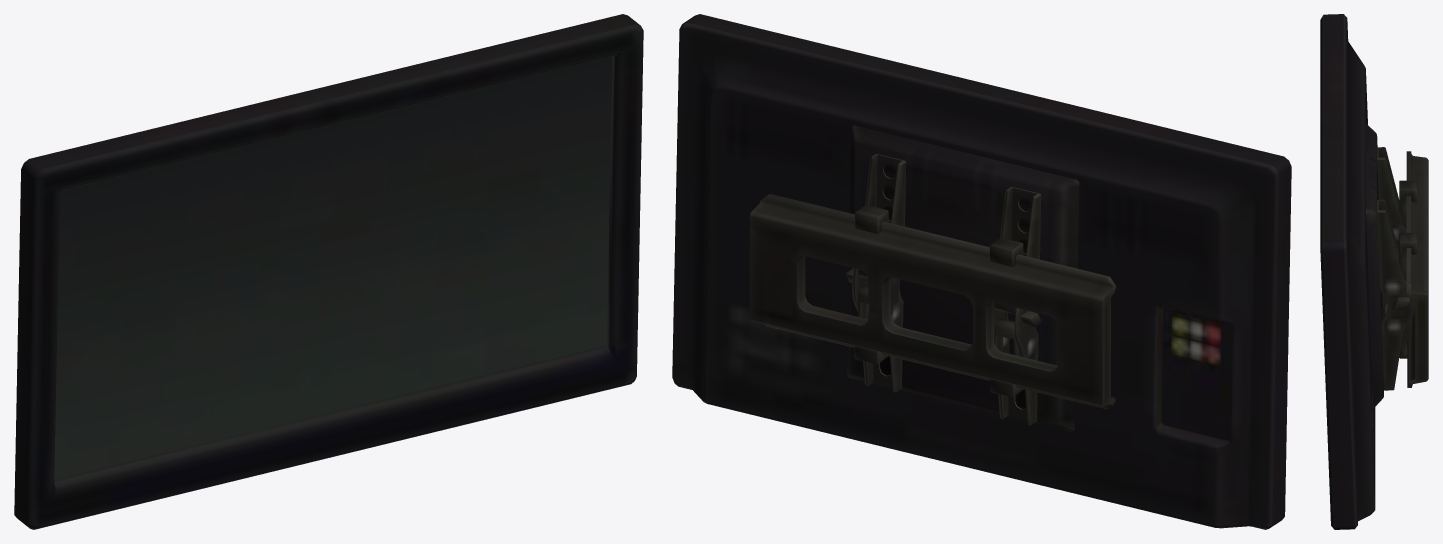
3 renders of one model, left to right at view 1: azimuth 30°, elevation 25°; view 2: azimuth 150°, elevation 25°; view 3: azimuth 270°, elevation 25°, orthographic. The views are drawn at different scales.
Bounding box in the file's own units: 16.39 × 9.41 × 3.21.
Materials: 2 (2 with a texture image).
